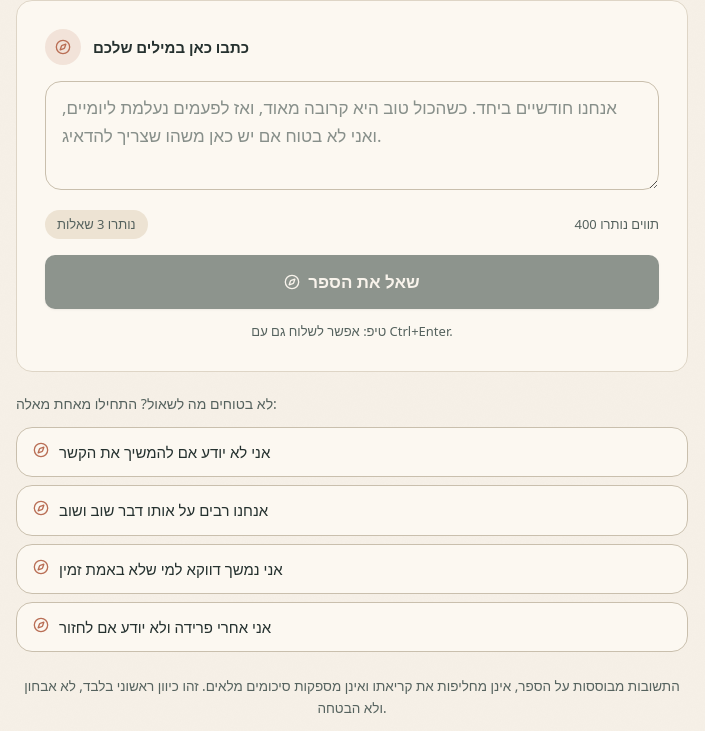
CompassConsole, safety response › renders the safety message and nothing else (no focus, no citation, no purchase CTA)
Replace the text in the text box labelled "כתבו כאן במילים שלכם" with "הוא מאיים עליי עם סכין". click: (352, 135)
box: x1=45 y1=81 x2=659 y2=190
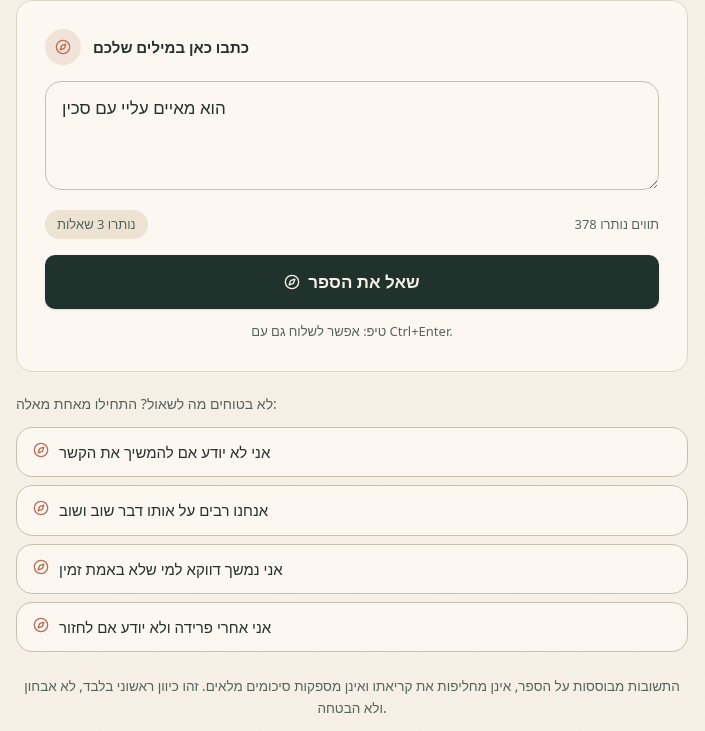
Click the button "שאל את הספר". click: click(352, 282)
box: x1=45 y1=255 x2=659 y2=309
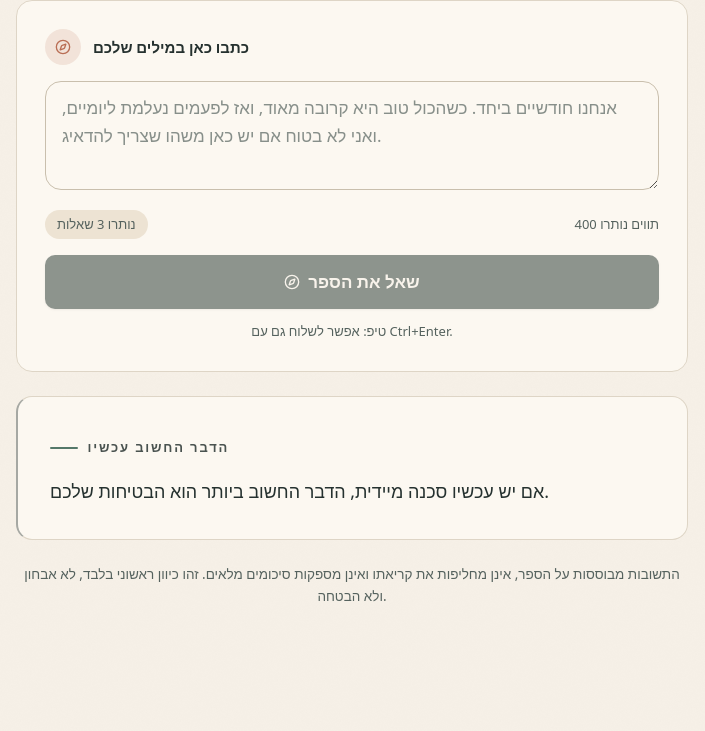
Now the text "אם יש עכשיו סכנה מיידית, הדבר החשוב ביותר הוא הבטיחות שלכם." is shown, box x1=50 y1=478 x2=549 y2=502
